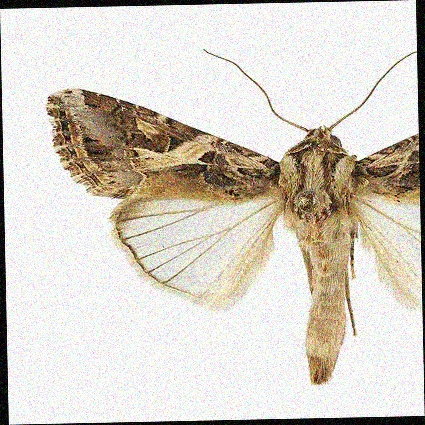Spodoptera litura: (48, 47, 421, 387)
